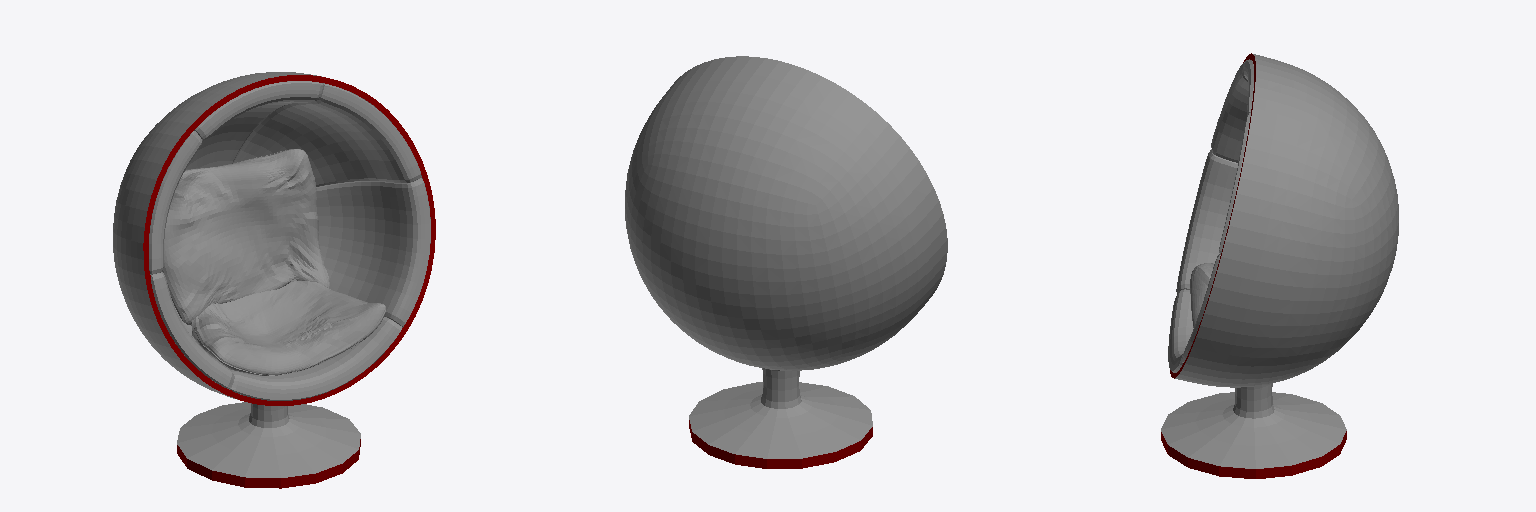
File: ball-chair.obj
3 renders of one model, left to right at view 1: azimuth 30°, elevation 25°; view 2: azimuth 150°, elevation 25°; view 3: azimuth 270°, elevation 25°, orthographic.
Parts seen in each view (by area): view 1: padding, pillow_top, shell, pillow_bottom, shell_trim; view 2: shell, shell_trim; view 3: shell, padding, shell_trim, pillow_bottom.
Part boxes in pixels (x1,y1,x2,y2): padding: (149, 81, 430, 400); pillow_top: (162, 149, 329, 324); shell: (113, 72, 422, 477); pillow_bottom: (191, 281, 385, 375); shell_trim: (143, 75, 435, 488); shell: (625, 56, 947, 458); shell_trim: (689, 420, 872, 468); shell: (1161, 54, 1398, 468); padding: (1168, 60, 1253, 372); shell_trim: (1161, 53, 1346, 478); pillow_bottom: (1190, 263, 1213, 327).
Size of the model in its own units: 0.6703 by 0.8246 by 0.4793.